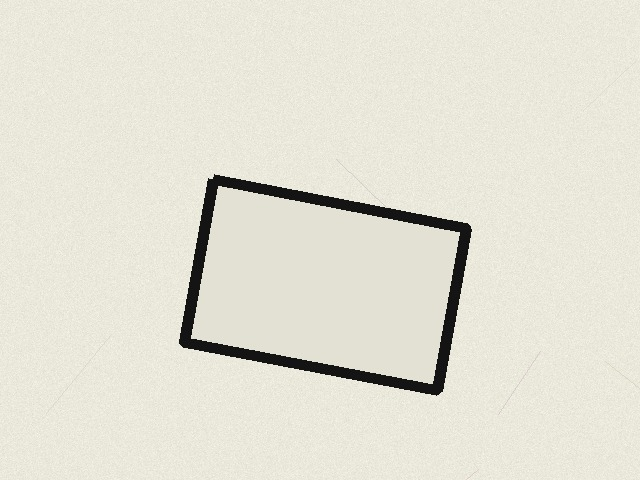parking_area: (184, 179, 466, 390)
